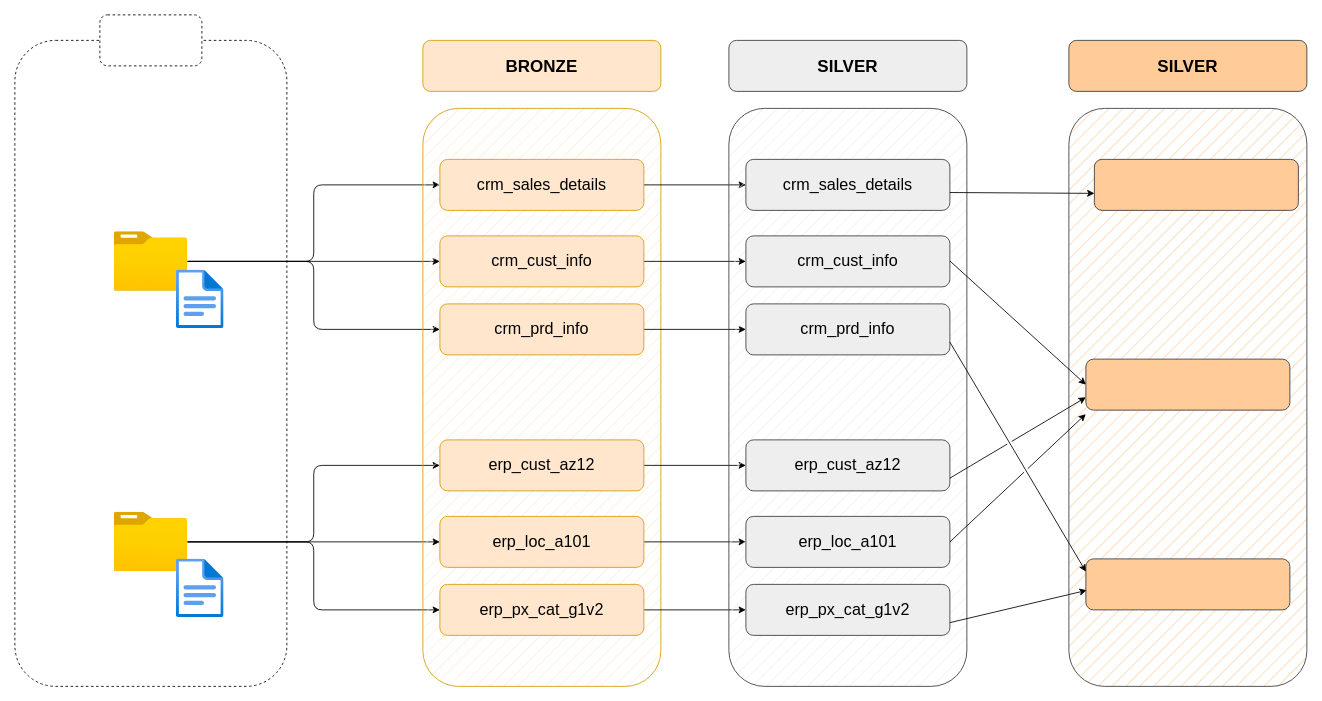
Some shapes in this 1322 by 701 pixel diagram are drawn without their labels. The centre of each missing label's shape, as x and y in pixels:
CRM: (150,261)
dim_customers: (1187,384)
dim_products: (1187,584)
ERP: (150,541)
fact_sales: (1196,184)
Sources: (150,40)
